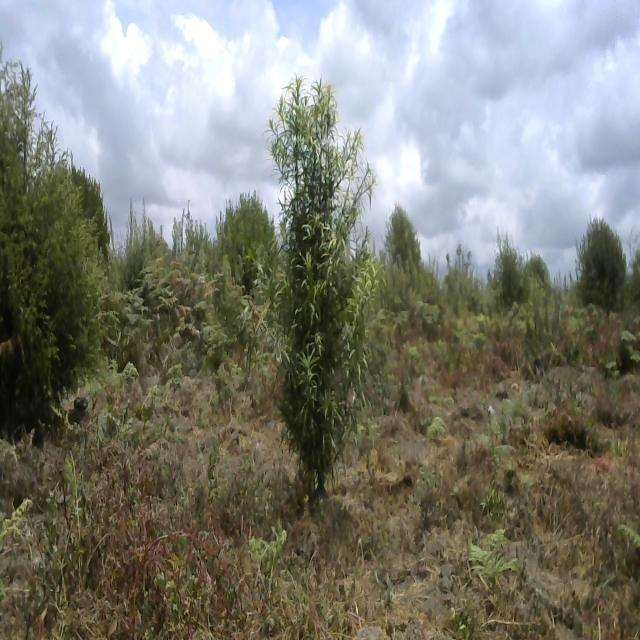Juniperus procesera: (0, 65, 99, 406)
Olea europea -africana-: (215, 187, 280, 284), (572, 213, 626, 311)
Podocarpus falcatus: (254, 67, 375, 487)
